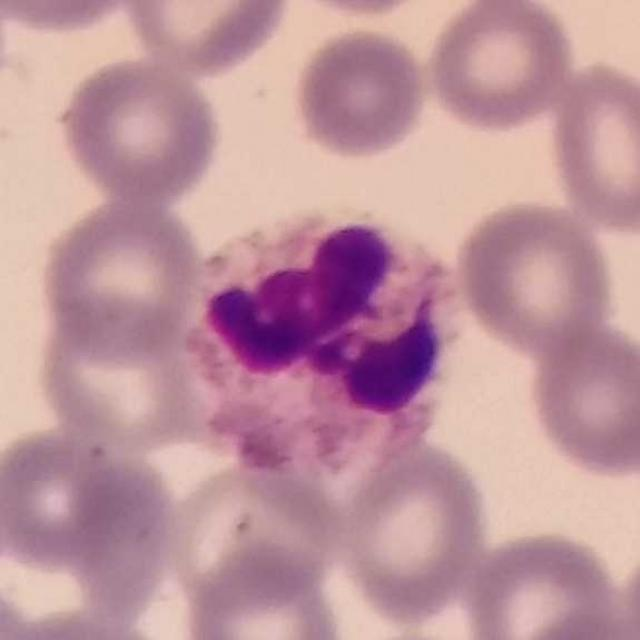Neutrophil: (185, 214, 474, 471)
RBC: (332, 435, 494, 626), (158, 451, 344, 612), (33, 195, 205, 363), (0, 423, 173, 583), (32, 303, 210, 455), (452, 196, 619, 358), (50, 54, 226, 205), (1, 500, 160, 640), (421, 0, 579, 135), (287, 24, 432, 162), (460, 525, 632, 640), (522, 318, 640, 484), (544, 56, 640, 237), (177, 545, 351, 640), (120, 0, 296, 78), (1, 0, 146, 36), (4, 612, 180, 640), (517, 600, 640, 639), (277, 0, 443, 21)
